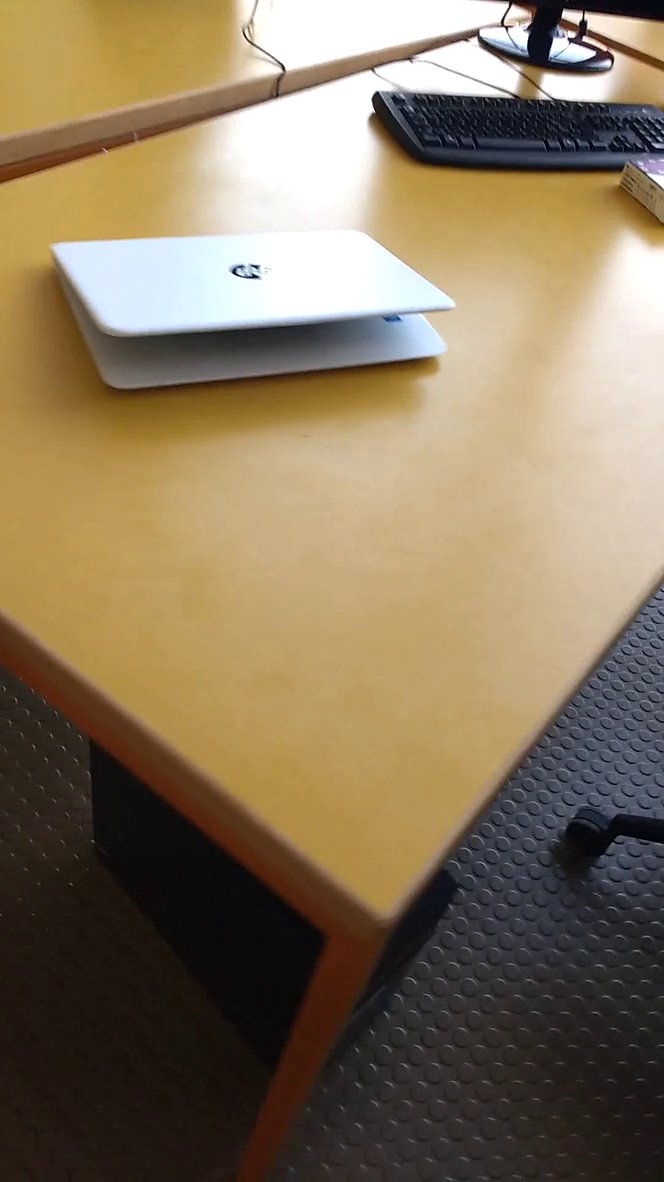laptop: (26, 209, 487, 419)
